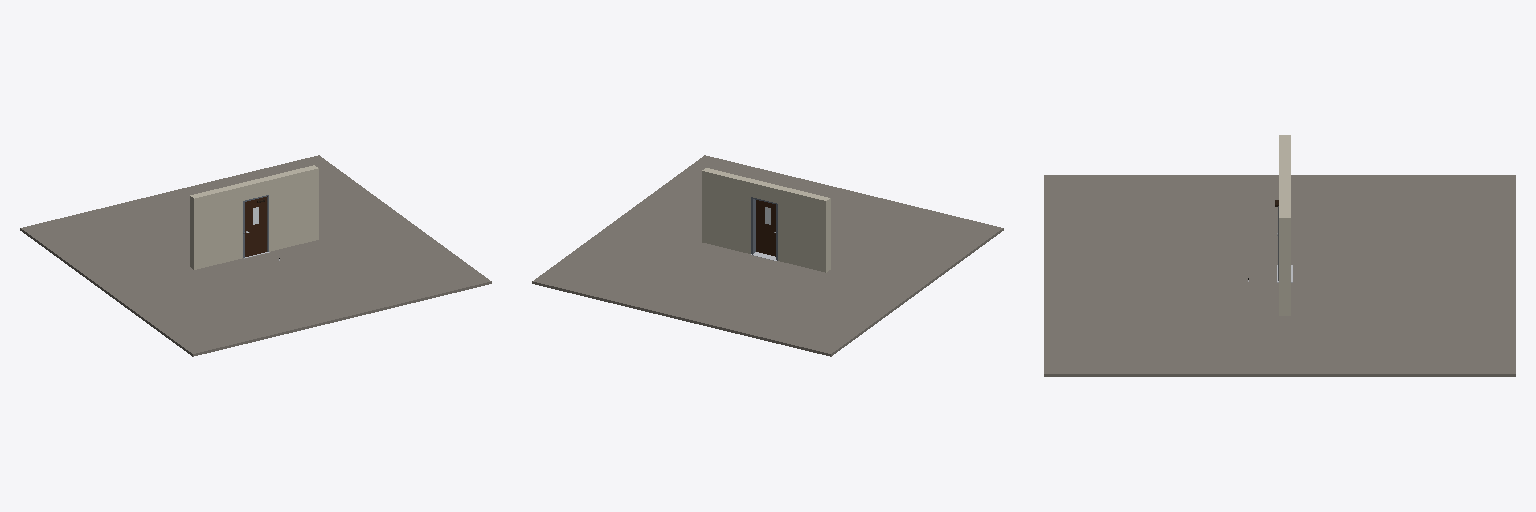
URDF robot description (db0181_swing_single_simple):
<?xml version="1.0" ?>
<robot xmlns:doorbench="https://github.com/adamraudonis/DoorBench/schema/urdf-ext" name="db0181_swing_single_simple">
  <link name="world_env">
    <visual name="floor_vis">
      <origin xyz="0 0 -0.05" rpy="0 0 0"/>
      <geometry>
        <box size="12 12 0.1"/>
      </geometry>
      <material name="mat_floor"/>
    </visual>
    <collision name="floor_col">
      <origin xyz="0 0 -0.05" rpy="0 0 0"/>
      <geometry>
        <box size="12 12 0.1"/>
      </geometry>
    </collision>
    <visual name="wall_left_vis">
      <origin xyz="-1.52025 0.121 1.3735" rpy="0 0 0"/>
      <geometry>
        <box size="1.9595 0.3 2.747"/>
      </geometry>
      <material name="mat_wall"/>
    </visual>
    <collision name="wall_left_col">
      <origin xyz="-1.52025 0.121 1.3735" rpy="0 0 0"/>
      <geometry>
        <box size="1.9595 0.3 2.747"/>
      </geometry>
    </collision>
    <visual name="wall_right_vis">
      <origin xyz="1.50525 0.121 1.3735" rpy="0 0 0"/>
      <geometry>
        <box size="1.9895 0.3 2.747"/>
      </geometry>
      <material name="mat_wall"/>
    </visual>
    <collision name="wall_right_col">
      <origin xyz="1.50525 0.121 1.3735" rpy="0 0 0"/>
      <geometry>
        <box size="1.9895 0.3 2.747"/>
      </geometry>
    </collision>
    <visual name="wall_header_vis">
      <origin xyz="-0.015 0.121 2.487" rpy="0 0 0"/>
      <geometry>
        <box size="1.051 0.3 0.52"/>
      </geometry>
      <material name="mat_wall"/>
    </visual>
    <collision name="wall_header_col">
      <origin xyz="-0.015 0.121 2.487" rpy="0 0 0"/>
      <geometry>
        <box size="1.051 0.3 0.52"/>
      </geometry>
    </collision>
    <visual name="jamb_hinge_vis">
      <origin xyz="0.4855 0.121 1.0735" rpy="0 0 0"/>
      <geometry>
        <box size="0.05 0.3 2.147"/>
      </geometry>
      <material name="mat_frame"/>
    </visual>
    <collision name="jamb_hinge_col">
      <origin xyz="0.4855 0.121 1.0735" rpy="0 0 0"/>
      <geometry>
        <box size="0.05 0.3 2.147"/>
      </geometry>
    </collision>
    <visual name="strike_965_wall_n_vis">
      <origin xyz="-0.5005 0.14025 0.965" rpy="0 0 0"/>
      <geometry>
        <box size="0.08 0.2615 0.0366"/>
      </geometry>
      <material name="mat_frame"/>
    </visual>
    <collision name="strike_965_wall_n_col">
      <origin xyz="-0.5005 0.14025 0.965" rpy="0 0 0"/>
      <geometry>
        <box size="0.08 0.2615 0.0366"/>
      </geometry>
    </collision>
    <visual name="strike_965_wall_p_vis">
      <origin xyz="-0.5005 -0.0175 0.965" rpy="0 0 0"/>
      <geometry>
        <box size="0.08 0.016 0.0366"/>
      </geometry>
      <material name="mat_frame"/>
    </visual>
    <collision name="strike_965_wall_p_col">
      <origin xyz="-0.5005 -0.0175 0.965" rpy="0 0 0"/>
      <geometry>
        <box size="0.08 0.016 0.0366"/>
      </geometry>
    </collision>
    <visual name="strike_965_ramp_vis">
      <origin xyz="-0.503782 -0.018312 0.965" rpy="0 0 -0.588003"/>
      <geometry>
        <box size="0.08 0.036056 0.0366"/>
      </geometry>
      <material name="mat_frame"/>
    </visual>
    <collision name="strike_965_ramp_col">
      <origin xyz="-0.503782 -0.018312 0.965" rpy="0 0 -0.588003"/>
      <geometry>
        <box size="0.08 0.036056 0.0366"/>
      </geometry>
    </collision>
    <visual name="strike_965_back_vis">
      <origin xyz="-0.512 0 0.965" rpy="0 0 0"/>
      <geometry>
        <box size="0.057 0.019 0.0366"/>
      </geometry>
      <material name="mat_frame"/>
    </visual>
    <collision name="strike_965_back_col">
      <origin xyz="-0.512 0 0.965" rpy="0 0 0"/>
      <geometry>
        <box size="0.057 0.019 0.0366"/>
      </geometry>
    </collision>
    <visual name="jamb_strike_0_vis">
      <origin xyz="-0.5005 0.121 0.47335" rpy="0 0 0"/>
      <geometry>
        <box size="0.08 0.3 0.9467"/>
      </geometry>
      <material name="mat_frame"/>
    </visual>
    <collision name="jamb_strike_0_col">
      <origin xyz="-0.5005 0.121 0.47335" rpy="0 0 0"/>
      <geometry>
        <box size="0.08 0.3 0.9467"/>
      </geometry>
    </collision>
    <visual name="jamb_strike_1_vis">
      <origin xyz="-0.5005 0.121 1.56515" rpy="0 0 0"/>
      <geometry>
        <box size="0.08 0.3 1.1637"/>
      </geometry>
      <material name="mat_frame"/>
    </visual>
    <collision name="jamb_strike_1_col">
      <origin xyz="-0.5005 0.121 1.56515" rpy="0 0 0"/>
      <geometry>
        <box size="0.08 0.3 1.1637"/>
      </geometry>
    </collision>
    <visual name="jamb_head_vis">
      <origin xyz="-0.015 0.121 2.172" rpy="0 0 0"/>
      <geometry>
        <box size="1.051 0.3 0.05"/>
      </geometry>
      <material name="mat_frame"/>
    </visual>
    <collision name="jamb_head_col">
      <origin xyz="-0.015 0.121 2.172" rpy="0 0 0"/>
      <geometry>
        <box size="1.051 0.3 0.05"/>
      </geometry>
    </collision>
    <visual name="head_stud_vis">
      <origin xyz="-0.015 0.121 2.212" rpy="0 0 0"/>
      <geometry>
        <box size="1.051 0.3 0.03"/>
      </geometry>
      <material name="mat_wall"/>
    </visual>
    <collision name="head_stud_col">
      <origin xyz="-0.015 0.121 2.212" rpy="0 0 0"/>
      <geometry>
        <box size="1.051 0.3 0.03"/>
      </geometry>
    </collision>
    <visual name="stop_hinge_vis">
      <origin xyz="0.455 0.0385 1.0735" rpy="0 0 0"/>
      <geometry>
        <box size="0.011 0.032 2.147"/>
      </geometry>
      <material name="mat_frame"/>
    </visual>
    <collision name="stop_hinge_col">
      <origin xyz="0.455 0.0385 1.0735" rpy="0 0 0"/>
      <geometry>
        <box size="0.011 0.032 2.147"/>
      </geometry>
    </collision>
    <visual name="stop_strike_vis">
      <origin xyz="-0.455 0.0385 1.0735" rpy="0 0 0"/>
      <geometry>
        <box size="0.011 0.032 2.147"/>
      </geometry>
      <material name="mat_frame"/>
    </visual>
    <collision name="stop_strike_col">
      <origin xyz="-0.455 0.0385 1.0735" rpy="0 0 0"/>
      <geometry>
        <box size="0.011 0.032 2.147"/>
      </geometry>
    </collision>
    <visual name="stop_head_vis">
      <origin xyz="0 0.0385 2.1415" rpy="0 0 0"/>
      <geometry>
        <box size="0.921 0.032 0.011"/>
      </geometry>
      <material name="mat_frame"/>
    </visual>
    <collision name="stop_head_col">
      <origin xyz="0 0.0385 2.1415" rpy="0 0 0"/>
      <geometry>
        <box size="0.921 0.032 0.011"/>
      </geometry>
    </collision>
    <visual name="threshold_vis">
      <origin xyz="0 0.121 0.004" rpy="0 0 0"/>
      <geometry>
        <box size="1.021 0.4 0.008"/>
      </geometry>
      <material name="mat_threshold"/>
    </visual>
    <collision name="threshold_col">
      <origin xyz="0 0.121 0.004" rpy="0 0 0"/>
      <geometry>
        <box size="1.021 0.4 0.008"/>
      </geometry>
    </collision>
    <visual name="door_stop_base_vis">
      <origin xyz="0.4735 -0.8059 0.003" rpy="0 0 0"/>
      <geometry>
        <cylinder radius="0.022" length="0.006"/>
      </geometry>
      <material name="mat_stop_base"/>
    </visual>
    <collision name="door_stop_base_col">
      <origin xyz="0.4735 -0.8059 0.003" rpy="0 0 0"/>
      <geometry>
        <cylinder radius="0.022" length="0.006"/>
      </geometry>
    </collision>
    <visual name="door_stop_post_vis">
      <origin xyz="0.4735 -0.8059 0.0305" rpy="0 0 0"/>
      <geometry>
        <cylinder radius="0.012" length="0.049"/>
      </geometry>
      <material name="mat_stop_base"/>
    </visual>
    <collision name="door_stop_post_col">
      <origin xyz="0.4735 -0.8059 0.0305" rpy="0 0 0"/>
      <geometry>
        <cylinder radius="0.012" length="0.049"/>
      </geometry>
    </collision>
    <visual name="door_stop_bumper_vis">
      <origin xyz="0.4735 -0.8059 0.075" rpy="0 0 0"/>
      <geometry>
        <cylinder radius="0.022" length="0.04"/>
      </geometry>
      <material name="mat_bumper_stop"/>
    </visual>
    <collision name="door_stop_bumper_col">
      <origin xyz="0.4735 -0.8059 0.075" rpy="0 0 0"/>
      <geometry>
        <cylinder radius="0.022" length="0.04"/>
      </geometry>
    </collision>
  </link>
  <link name="leaf">
    <inertial>
      <origin xyz="-0.404997 0.013457 1.269517" rpy="0 0 0"/>
      <mass value="64.867255"/>
      <inertia ixx="29.643320104" ixy="0.1338807" ixz="-1.35620977" iyy="33.842457328" iyz="0.708618474" izz="4.343250424"/>
    </inertial>
    <visual name="leaf_slab_vis">
      <origin xyz="-0.457 0.029 1.076" rpy="0 0 0"/>
      <geometry>
        <box size="0.914 0.044 2.134"/>
      </geometry>
      <material name="mat_leaf"/>
    </visual>
    <collision name="leaf_slab_col">
      <origin xyz="-0.457 0.029 1.076" rpy="0 0 0"/>
      <geometry>
        <box size="0.914 0.044 2.134"/>
      </geometry>
    </collision>
    <visual name="leaf_glass_0_vis">
      <origin xyz="-0.457 0.029 1.5028" rpy="0 0 0"/>
      <geometry>
        <box size="0.25 0.0456 0.6402"/>
      </geometry>
      <material name="mat_glass"/>
    </visual>
    <visual name="hinge_continuous_vis">
      <origin xyz="0 0 1.076" rpy="0 0 0"/>
      <geometry>
        <cylinder radius="0.0136" length="2.114"/>
      </geometry>
      <material name="mat_hinge"/>
    </visual>
    <visual name="leaf_latch_bolt_faceplate_vis">
      <origin xyz="-0.9134 0.029 0.965" rpy="0 0 0"/>
      <geometry>
        <box size="0.0012 0.028 0.0566"/>
      </geometry>
      <material name="mat_bolt"/>
    </visual>
    <visual name="closer_body_vis">
      <origin xyz="-0.297 0.007 2.054" rpy="-1.570796 0 3.141593"/>
      <geometry>
        <mesh filename="../../hardware/closer_body_fdc4667657.obj"/>
      </geometry>
      <material name="mat_closer"/>
    </visual>
    <collision name="closer_body_col_col">
      <origin xyz="-0.297 -0.043 2.054" rpy="0 0 0"/>
      <geometry>
        <box size="0.29 0.1 0.07"/>
      </geometry>
    </collision>
  </link>
  <link name="leaf_handle">
    <inertial>
      <origin xyz="0.03705 0 0" rpy="0 0 0"/>
      <mass value="0.984967"/>
      <inertia ixx="0.00380889" ixy="0" ixz="0" iyy="0.002278035" iyz="0" izz="0.005520856"/>
    </inertial>
    <visual name="leaf_handle_lever_n_vis">
      <origin xyz="0 -0.022 0" rpy="-1.570796 0 3.141593"/>
      <geometry>
        <mesh filename="../../hardware/lever_6268dcb28c.obj"/>
      </geometry>
      <material name="mat_op_stainless"/>
    </visual>
    <collision name="leaf_handle_lever_col_n_col">
      <origin xyz="0.06 -0.077 0" rpy="0 1.570796 0"/>
      <geometry>
        <cylinder radius="0.0095" length="0.101"/>
      </geometry>
    </collision>
    <collision name="leaf_handle_hub_col_n_col">
      <origin xyz="0 -0.052 0" rpy="-1.570796 0 0"/>
      <geometry>
        <cylinder radius="0.012" length="0.044"/>
      </geometry>
    </collision>
    <visual name="leaf_handle_lever_p_vis">
      <origin xyz="0 0.022 0" rpy="1.570796 0 3.141593"/>
      <geometry>
        <mesh filename="../../hardware/lever_6268dcb28c.obj"/>
      </geometry>
      <material name="mat_op_stainless"/>
    </visual>
    <collision name="leaf_handle_lever_col_p_col">
      <origin xyz="0.06 0.077 0" rpy="0 1.570796 0"/>
      <geometry>
        <cylinder radius="0.0095" length="0.101"/>
      </geometry>
    </collision>
    <collision name="leaf_handle_hub_col_p_col">
      <origin xyz="0 0.052 0" rpy="-1.570796 0 0"/>
      <geometry>
        <cylinder radius="0.012" length="0.044"/>
      </geometry>
    </collision>
  </link>
  <link name="leaf_latch_bolt">
    <inertial>
      <origin xyz="0.0055 0 0" rpy="0 0 0"/>
      <mass value="0.074627"/>
      <inertia ixx="0.000002271" ixy="0" ixz="0" iyy="0.000013255" iyz="0" izz="0.000013255"/>
    </inertial>
    <visual name="leaf_latch_bolt_capsule_vis">
      <origin xyz="0.0055 0 0" rpy="0 -1.570796 0"/>
      <geometry>
        <cylinder radius="0.008" length="0.033"/>
      </geometry>
      <material name="mat_bolt"/>
    </visual>
    <collision name="leaf_latch_bolt_capsule_col">
      <origin xyz="0.0055 0 0" rpy="0 -1.570796 0"/>
      <geometry>
        <cylinder radius="0.008" length="0.033"/>
      </geometry>
    </collision>
  </link>
  <joint name="leaf_hinge" type="revolute">
    <origin xyz="0.4575 -0.029 0" rpy="0 0 0"/>
    <parent link="world_env"/>
    <child link="leaf"/>
    <axis xyz="0 0 1"/>
    <limit lower="0" upper="1.570796" effort="2000" velocity="10"/>
    <dynamics damping="12.268966" friction="2.82052"/>
    <doorbench:spring stiffness="15.342537" springref="-1.864099" note="tau = -stiffness*(q - springref); not native URDF"/>
    <doorbench:closer damping_closing="81" damping_opening="12" backcheck_angle="1.22" backcheck_damping="60"/>
  </joint>
  <joint name="leaf_handle_hinge" type="revolute">
    <origin xyz="-0.844 0.029 0.965" rpy="0 0 0"/>
    <parent link="leaf"/>
    <child link="leaf_handle"/>
    <axis xyz="0 1 0"/>
    <limit lower="0" upper="0.09" effort="2000" velocity="10"/>
    <dynamics damping="0.255799" friction="0.05"/>
    <doorbench:spring stiffness="1.2" springref="-0.583333" note="tau = -stiffness*(q - springref); not native URDF"/>
    <doorbench:note text="locked: range limited to backlash"/>
  </joint>
  <joint name="leaf_latch_bolt_slide" type="prismatic">
    <origin xyz="-0.914 0.029 0.965" rpy="0 0 0"/>
    <parent link="leaf"/>
    <child link="leaf_latch_bolt"/>
    <axis xyz="1 0 0"/>
    <limit lower="0" upper="0.019" effort="5000" velocity="10"/>
    <dynamics damping="2" friction="0.3"/>
    <doorbench:spring stiffness="600" springref="-0.01" note="tau = -stiffness*(q - springref); not native URDF"/>
    <mimic joint="leaf_handle_hinge" multiplier="0.020879" offset="0"/>
    <doorbench:coupling one_sided="true" note="MJCF uses a one-sided tendon (bolt may retract further, e.g. riding over the strike lip); mimic is bilateral"/>
  </joint>
  <material name="mat_bolt">
    <color rgba="0.85 0.66 0.3 1"/>
  </material>
  <material name="mat_bumper_stop">
    <color rgba="0.08 0.08 0.08 1"/>
  </material>
  <material name="mat_closer">
    <color rgba="0.22 0.17 0.13 1"/>
  </material>
  <material name="mat_floor">
    <color rgba="0.55 0.53 0.5 1"/>
  </material>
  <material name="mat_frame">
    <color rgba="0.45 0.48 0.52 1"/>
  </material>
  <material name="mat_glass">
    <color rgba="0.9 0.93 0.95 0.6"/>
  </material>
  <material name="mat_hinge">
    <color rgba="0.65 0.66 0.68 1"/>
  </material>
  <material name="mat_leaf">
    <color rgba="0.3 0.2 0.14 1"/>
  </material>
  <material name="mat_op_stainless">
    <color rgba="0.75 0.76 0.77 1"/>
  </material>
  <material name="mat_stop_base">
    <color rgba="0.9 0.9 0.92 1"/>
  </material>
  <material name="mat_threshold">
    <color rgba="0.8 0.81 0.83 1"/>
  </material>
  <material name="mat_wall">
    <color rgba="0.78 0.76 0.7 1"/>
  </material>
</robot>

--- What the picture shows (computed from the rendered views, not written in the file) ---
3 views of the same robot in one strip: view 1: azimuth 30°, elevation 25°; view 2: azimuth 150°, elevation 25°; view 3: azimuth 270°, elevation 25° (orthographic).
Model db0181_swing_single_simple with 4 links and 3 joints (2 revolute, 1 prismatic), rooted at world_env, posed all joints at 0.
Links seen in each view (by area): view 1: world_env, leaf; view 2: world_env, leaf; view 3: world_env.
Boxes of the visible links, x1,y1,x2,y2 form: world_env: (20,155,491,356); leaf: (245,196,267,256); world_env: (532,155,1003,356); leaf: (756,200,775,256); world_env: (1044,135,1515,376).
Size in the robot's own frame: 12 by 12 by 2.85 metres.
Meshes: 2 distinct files referenced, 3 mesh visuals loaded (2 OBJ).
